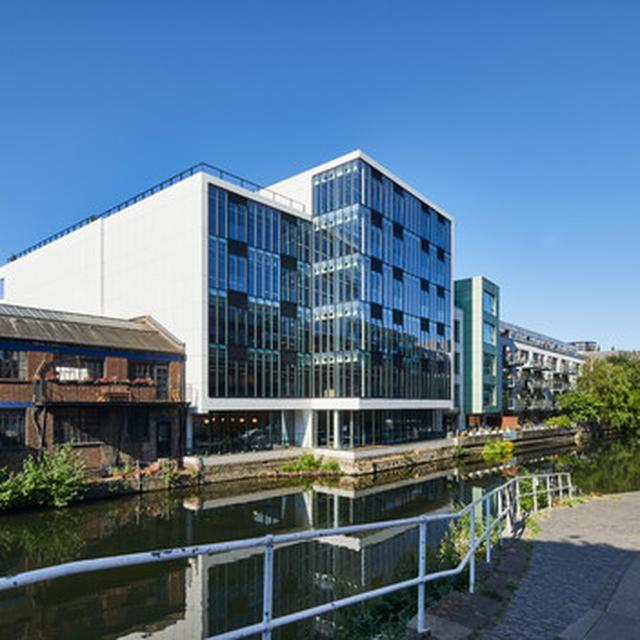building: (1, 149, 454, 439), (0, 300, 182, 471), (454, 276, 626, 420)
